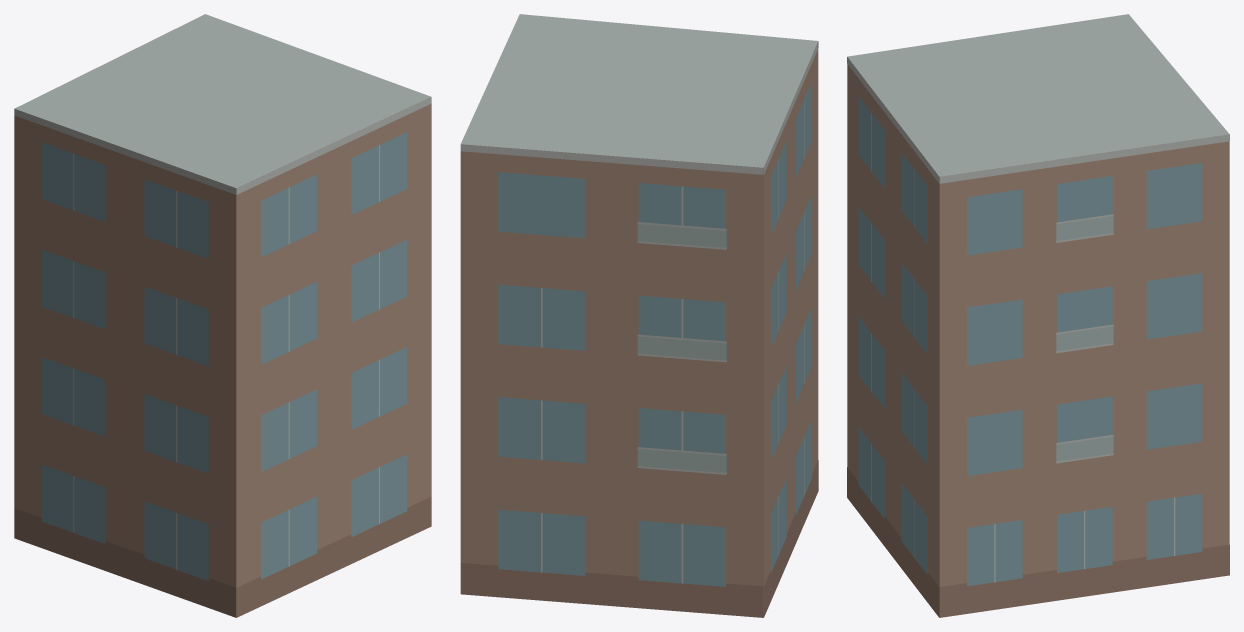
The model's file is survey-upis-32835898.glb.
3 views of the same model, side by side, from view 1: azimuth 30°, elevation 25°; view 2: azimuth 150°, elevation 25°; view 3: azimuth 270°, elevation 25° (orthographic). The views are drawn at different scales.
Parts seen in each view (by area): view 1: survey-upis-32835898.tmp; view 2: survey-upis-32835898.tmp; view 3: survey-upis-32835898.tmp.
Part boxes in pixels (box(x1,y1,x2,y2)): survey-upis-32835898.tmp: box(14, 14, 431, 617); survey-upis-32835898.tmp: box(460, 14, 818, 617); survey-upis-32835898.tmp: box(847, 14, 1229, 617).
Size of the model in its own units: 12.28 by 15.49 by 12.19.
